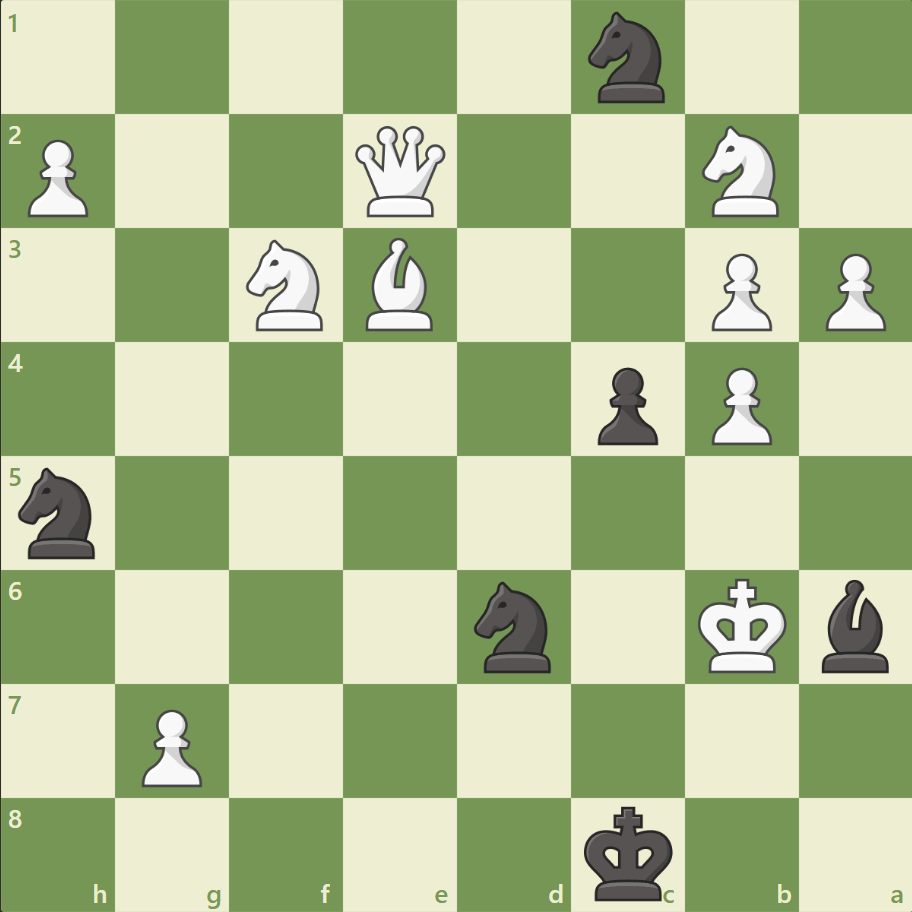B: (358, 233, 442, 336)
K: (692, 571, 792, 679)
N: (238, 234, 335, 337), (692, 121, 789, 223)
P: (133, 700, 208, 791), (701, 359, 776, 450), (701, 246, 776, 337), (20, 132, 95, 223), (815, 246, 889, 337)
Q: (351, 122, 450, 222)
b: (812, 574, 896, 676)
k: (579, 798, 679, 906)
n: (11, 461, 108, 564), (579, 7, 676, 110), (465, 575, 562, 677)
p: (588, 359, 662, 450)
